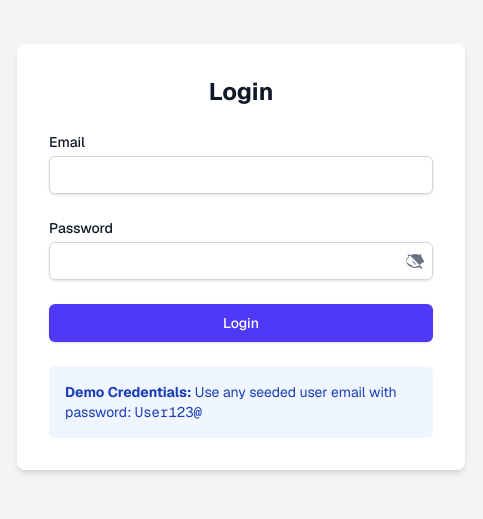
Test case: LoginPage › should show error if email is empty
This screenshot has width=483, height=519.
Click the button "Login" at coordinates (241, 323), box [49,304,433,342]
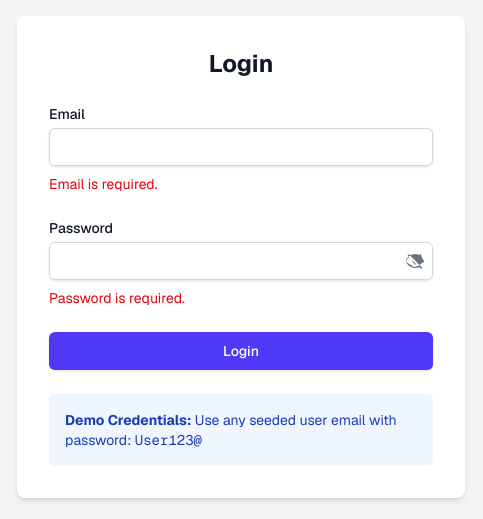
Expected: the text "Email is required." is shown, [49,175,158,193]
